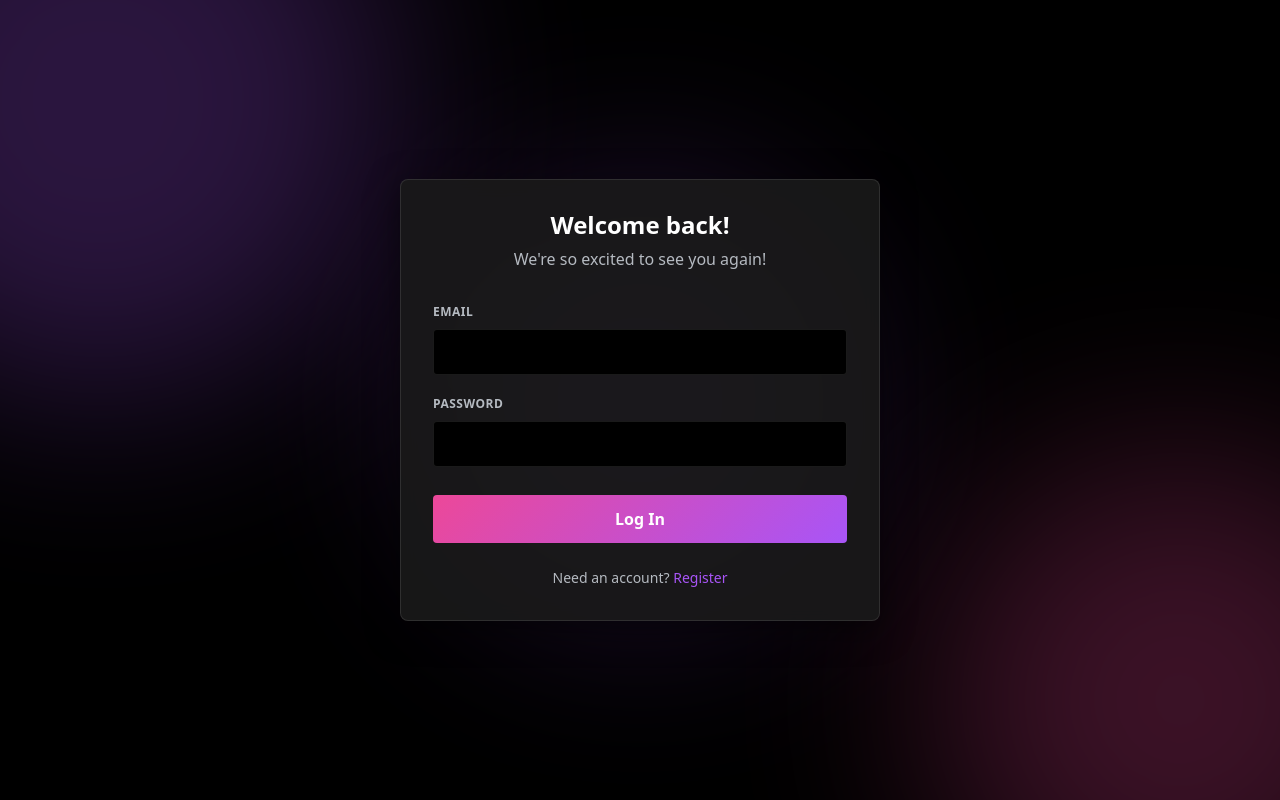
Test: LoginPage › shows fallback error message when no message in response
This screenshot has width=1280, height=800.
In the field labelled "Email": (640, 352) [433,329,847,375], type "test@example.com"
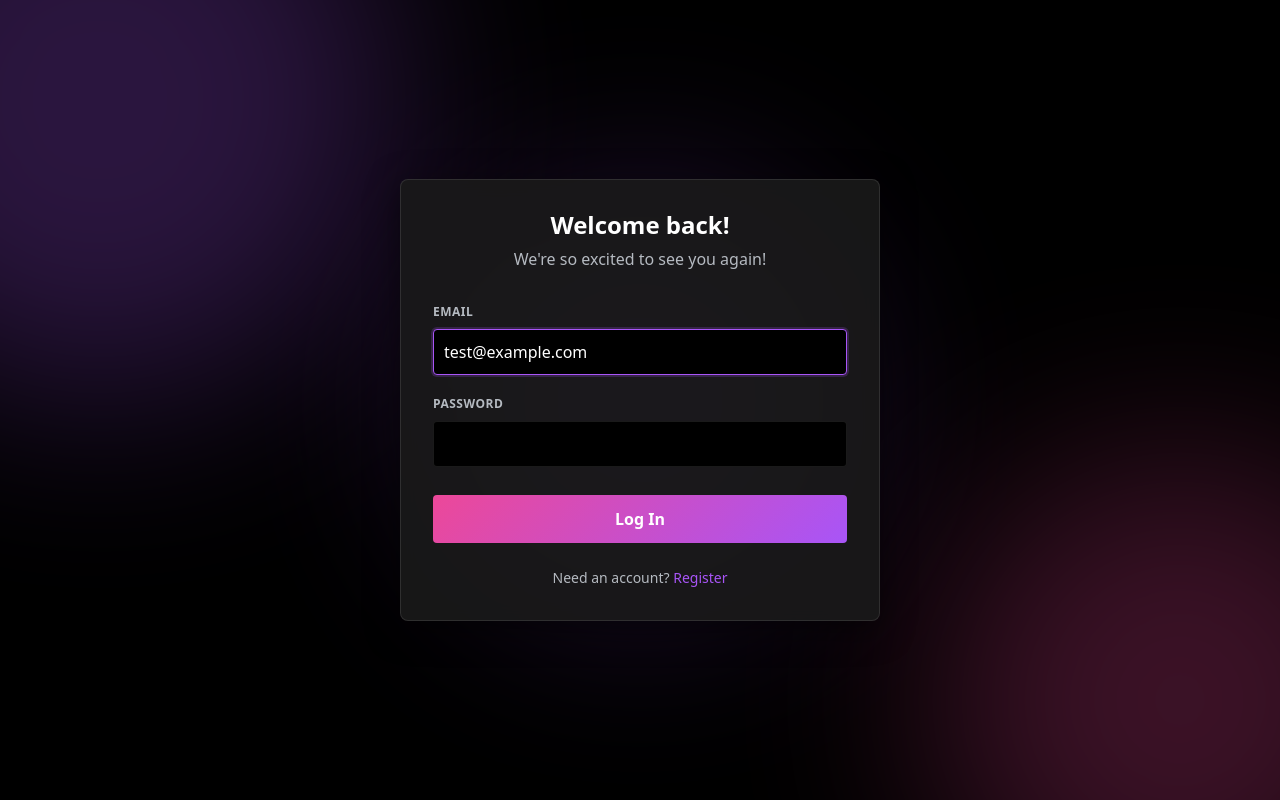
In the password field labelled "Password": (640, 444) [433,421,847,467], type "pass"
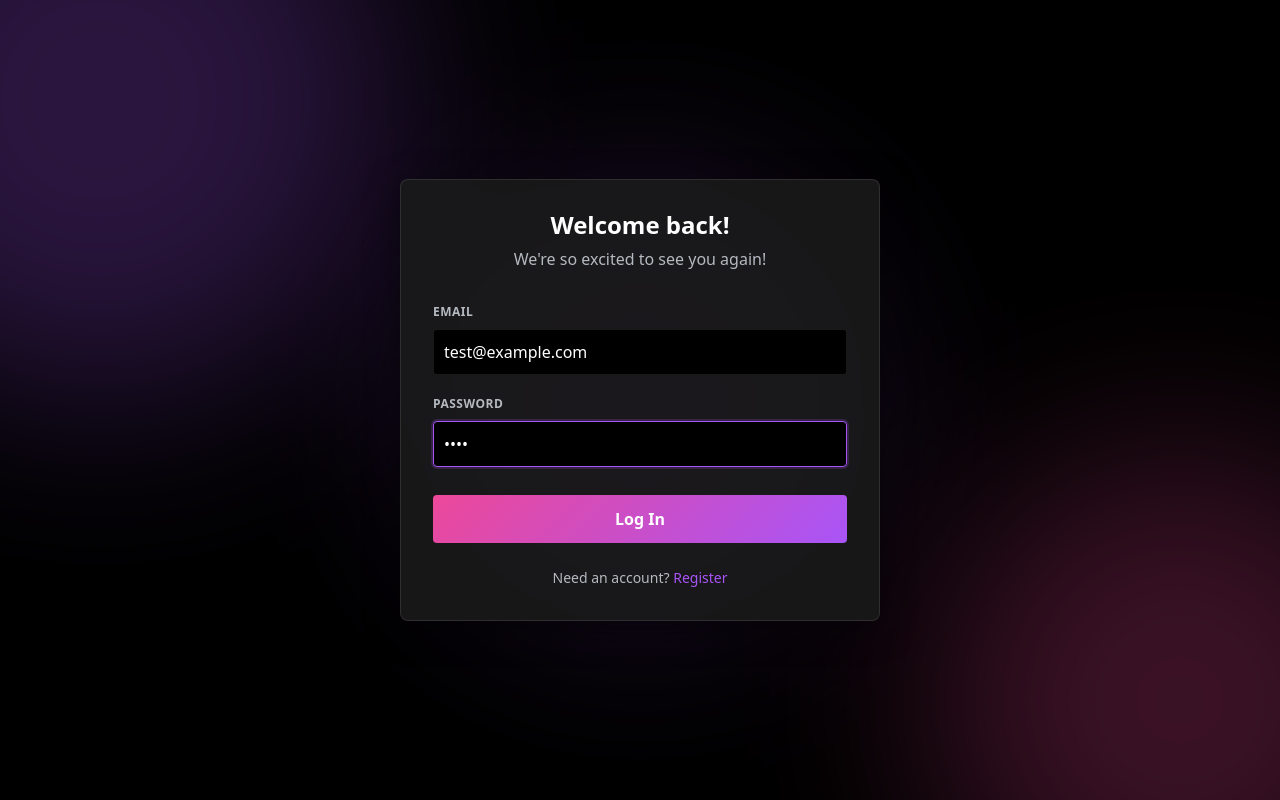
Click the button "Log In": (640, 519) [433,495,847,543]
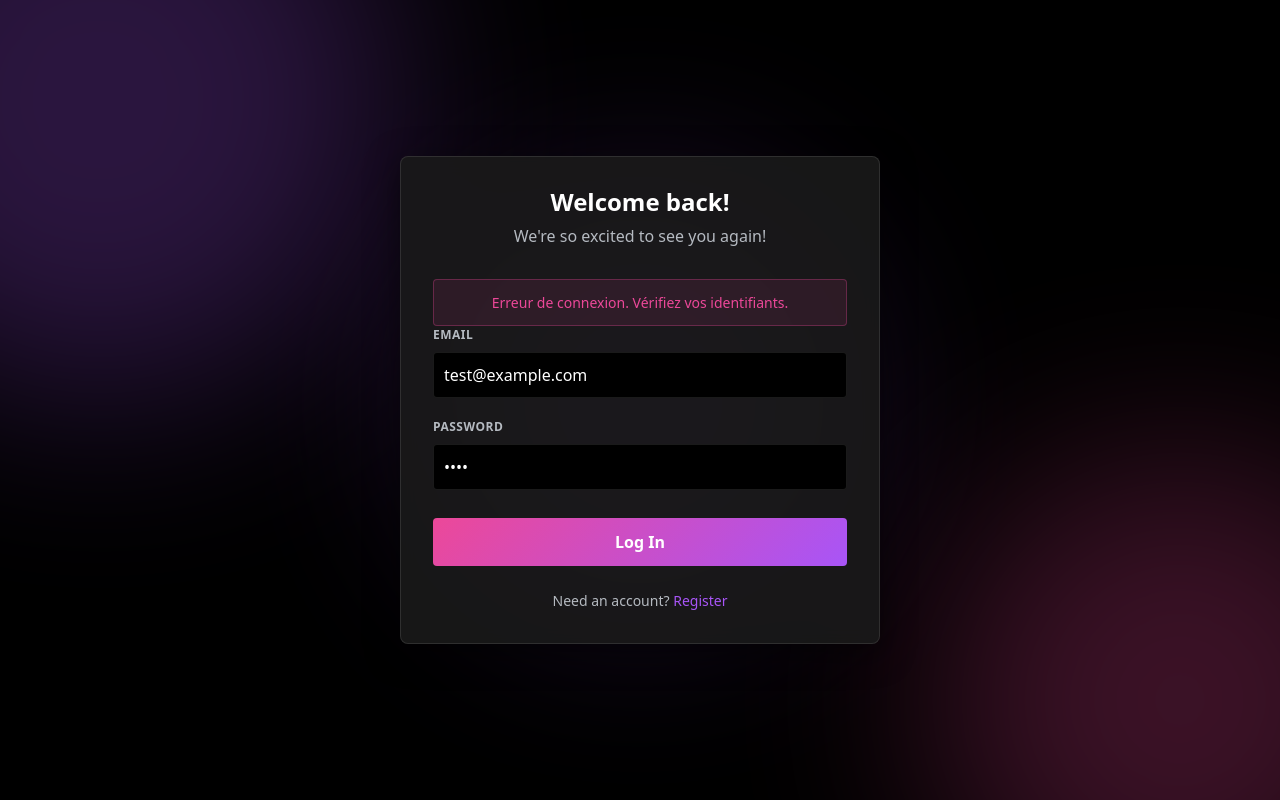
Check: the text "Erreur de connexion. Vérifiez vos identifiants." is shown, box [433,279,847,326]
